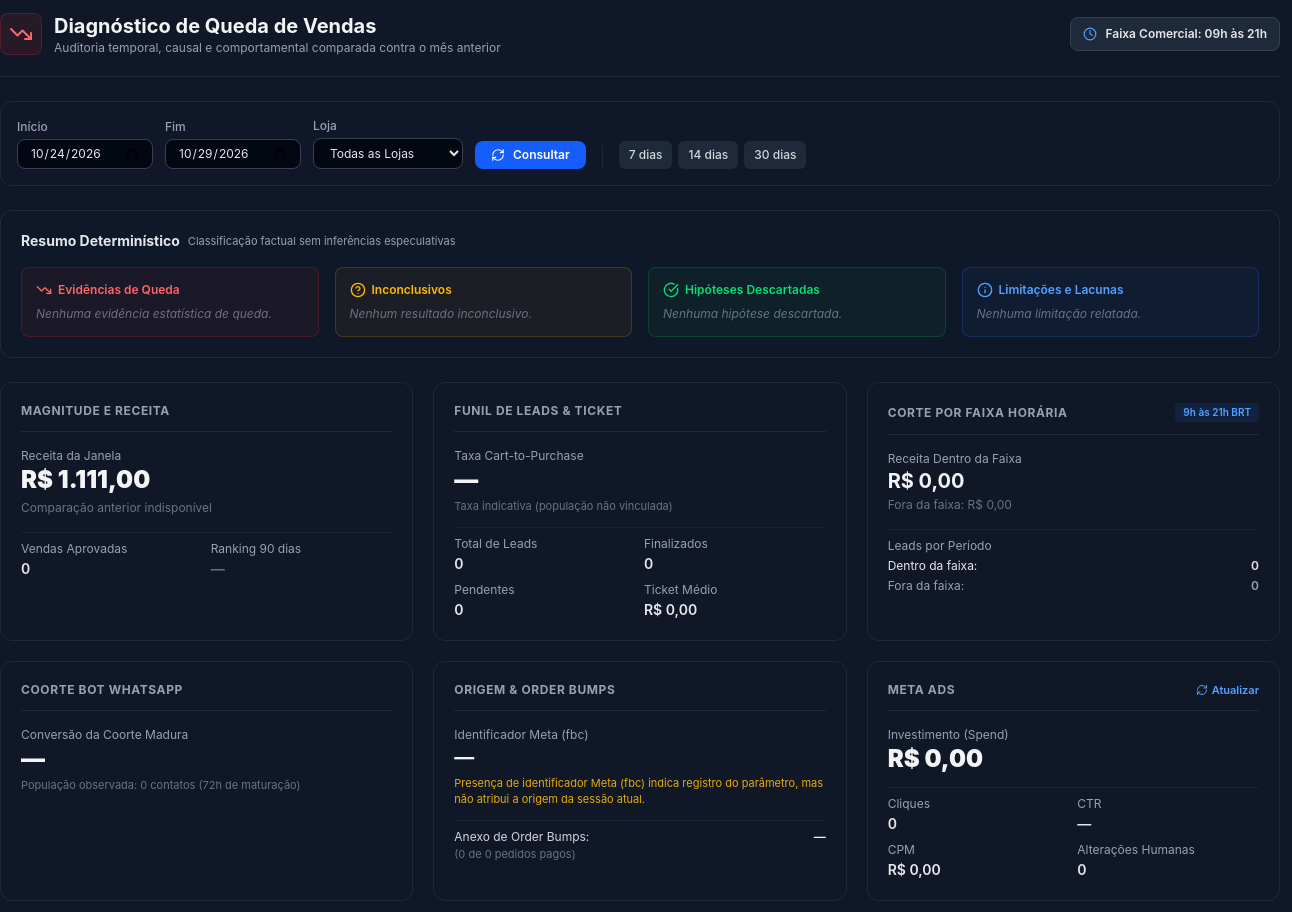
Test case: SalesDiagnostics Component (T7) › 6. Troca rapida de filtros: resposta de contexto antigo e ignorada
This screenshot has width=1292, height=912.
// Clica em um preset para disparar nova consulta
Click the button "14 dias".
click(708, 155)  # box 678,141 -> 738,169
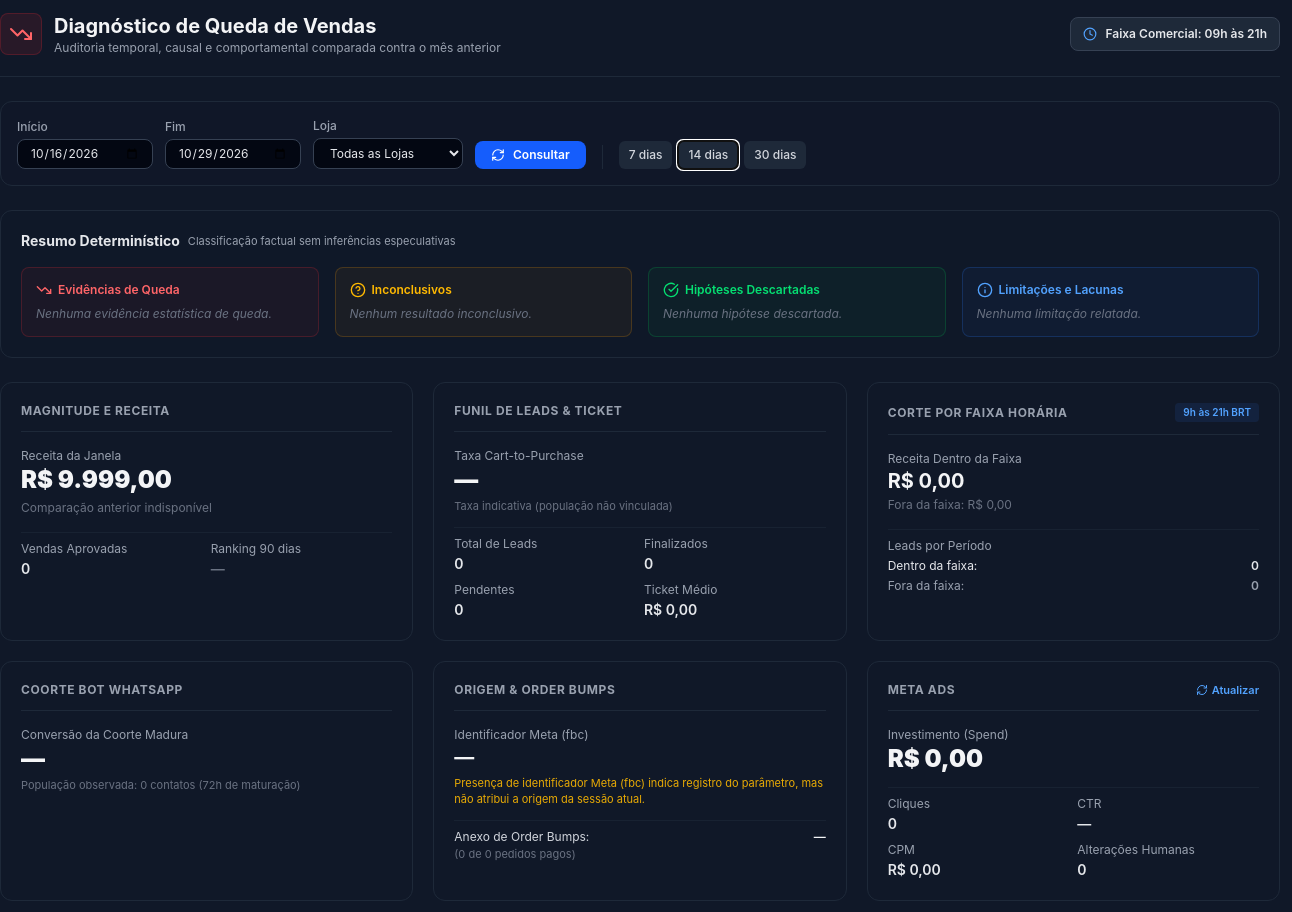
Check: the text "R$ 9.999,00" is shown, box 21,465 -> 172,494
Check: the text "R$ 1.111,00" is gone
